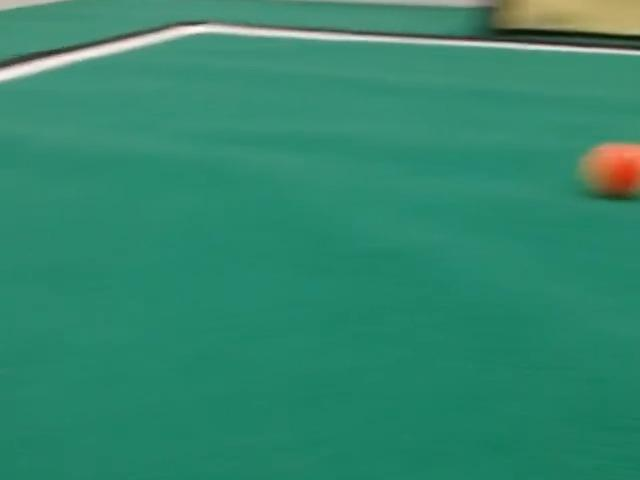Ball: (579, 143, 639, 197)
Yellow Goal: (494, 0, 639, 35)
